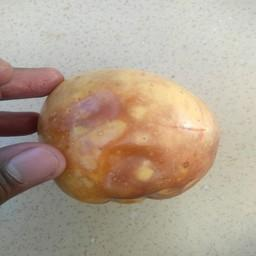Bad_apple: (40, 70, 217, 201)
